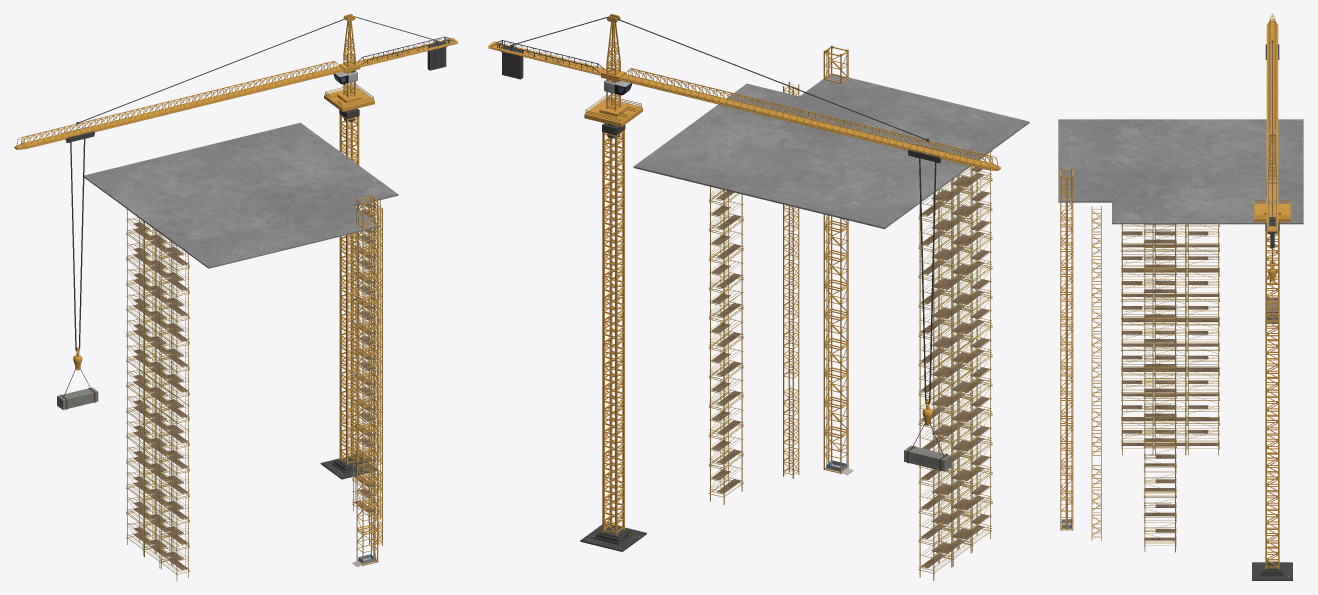
The model's file is Machine.fbx.
The picture shows the model from 3 angles, left to right: view 1: azimuth 30°, elevation 25°; view 2: azimuth 150°, elevation 25°; view 3: azimuth 270°, elevation 25°; orthographic projection. The views are drawn at different scales.
Parts seen in each view (by area): view 1: Plane.271, Circle.001, Circle.003, Circle.004, Plane.269, Plane.126, Circle.005, Plane.138, Plane.131, Plane.123, Plane.130, Plane.128 (+4 smaller); view 2: Plane.271, Circle.004, Plane.126, Circle.003, Circle.001, Circle.005, Plane.269, Plane.138, Plane.131, Plane.123, Plane.130, Plane.124 (+5 smaller); view 3: Plane.271, Circle.005, Circle.004, Circle.001, Plane.126, Circle.003, Plane.269, Plane.131, Plane.123, Plane.138, Plane.266, Plane.130 (+3 smaller).
Boxes of the visible parts, x1,y1,x2,y2 form: Plane.271: (84,122,398,268); Circle.001: (159,233,189,580); Circle.003: (143,221,172,568); Circle.004: (126,209,155,556); Plane.269: (356,195,378,533); Plane.126: (339,114,359,465); Circle.005: (352,200,381,522); Plane.138: (21,61,337,146); Plane.131: (15,38,458,147); Plane.123: (369,206,382,462); Plane.130: (14,42,457,149); Plane.128: (324,84,374,111); Plane.271: (633,73,1029,228); Circle.004: (918,179,953,580); Plane.126: (602,130,624,535); Circle.003: (938,166,972,566); Circle.001: (958,151,992,552); Circle.005: (708,186,743,504); Plane.269: (823,45,848,436); Plane.138: (627,68,992,167); Plane.131: (487,41,999,168); Plane.123: (783,82,799,382); Plane.130: (488,47,1000,170); Plane.124: (783,384,799,478); Plane.271: (1058,119,1303,224); Circle.005: (1143,224,1176,552); Circle.004: (1187,224,1219,455); Circle.001: (1121,224,1154,455); Plane.126: (1265,231,1279,569); Circle.003: (1154,224,1186,455); Plane.269: (1060,169,1073,498); Plane.131: (1266,22,1278,230); Plane.123: (1091,206,1101,458); Plane.138: (1268,16,1276,168); Plane.266: (1252,562,1292,580); Plane.130: (1266,23,1278,231).
Size of the model in its own units: 147 by 144 by 72.53.
